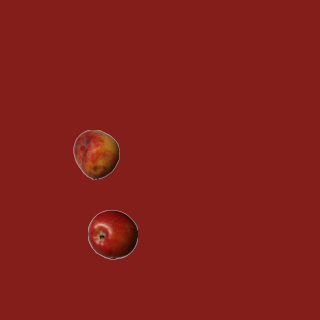Apple Braeburn: (87, 209, 137, 259)
Peach: (71, 129, 121, 179)
